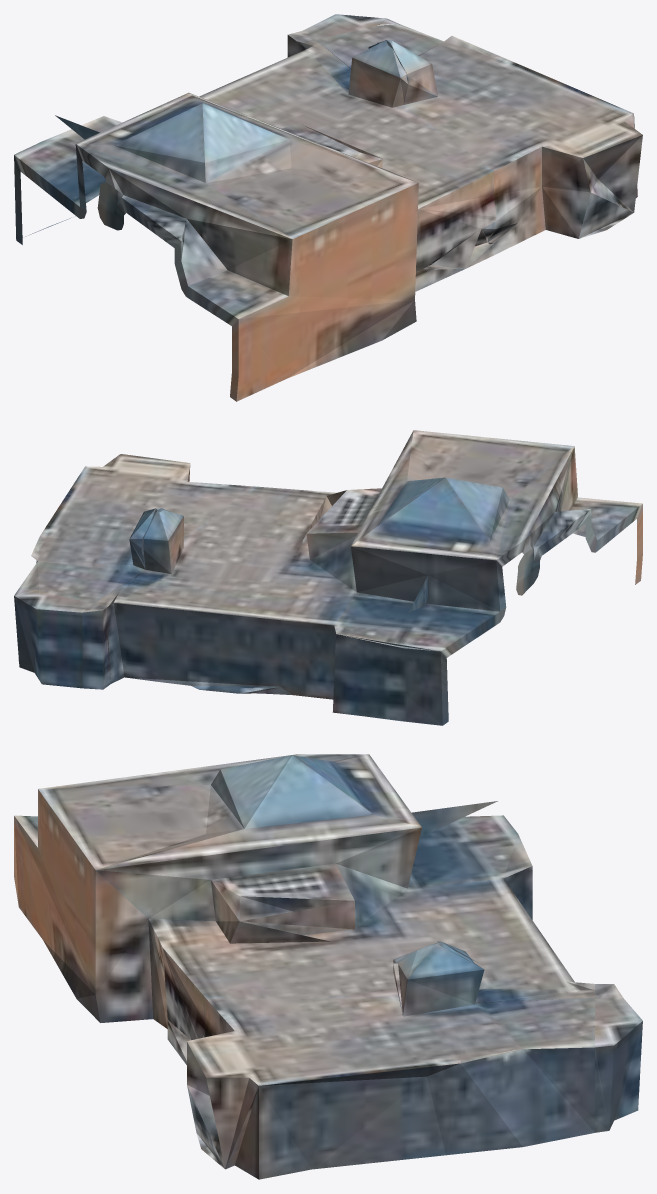
File: chunk_7_-1.glb
3 views of the same model, one above another, from view 1: azimuth 30°, elevation 25°; view 2: azimuth 150°, elevation 25°; view 3: azimuth 270°, elevation 25° (orthographic). The views are drawn at different scales.
Parts seen in each view (by area): view 1: hero-chunk; view 2: hero-chunk; view 3: hero-chunk.
Boxes of the visible parts, bbox=[...] form: hero-chunk: bbox=[14, 14, 642, 401]; hero-chunk: bbox=[14, 430, 642, 725]; hero-chunk: bbox=[14, 754, 642, 1179].
Size of the model in its own units: 41.57 by 14.24 by 40.32.
Materials: 1 (1 with a texture image).
